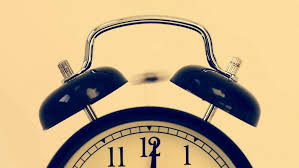alarm_clock: (27, 14, 261, 166), (27, 25, 261, 166), (27, 25, 251, 166)
